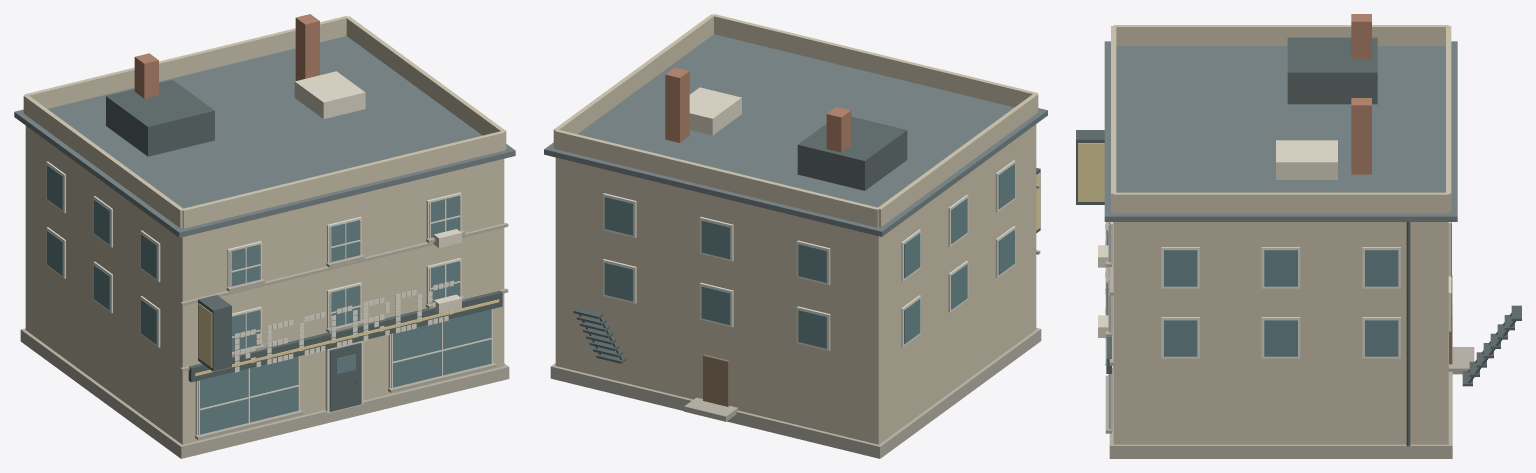
3 views of the same model, side by side, from view 1: azimuth 30°, elevation 25°; view 2: azimuth 150°, elevation 25°; view 3: azimuth 270°, elevation 25° (orthographic). The views are drawn at different scales.
Size of the model in its own units: 16.1 by 13.44 by 17.3.
